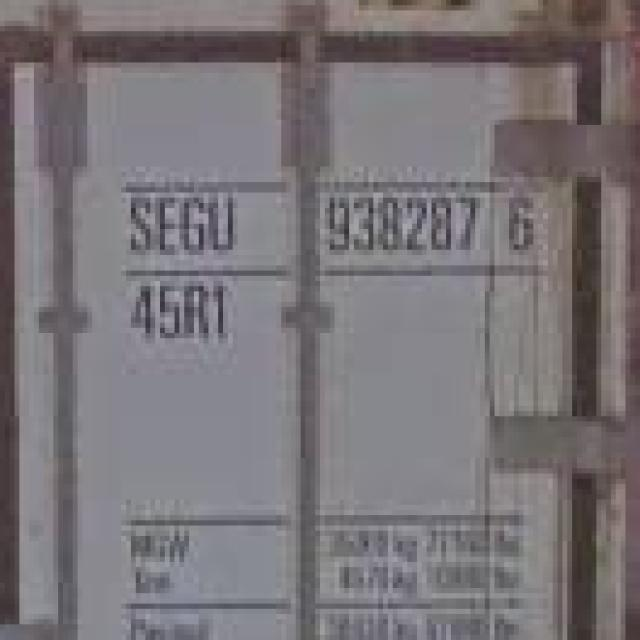dv: (490, 188, 551, 260)
owner: (122, 190, 242, 259)
serial: (322, 187, 484, 258)
size: (122, 270, 238, 350)
